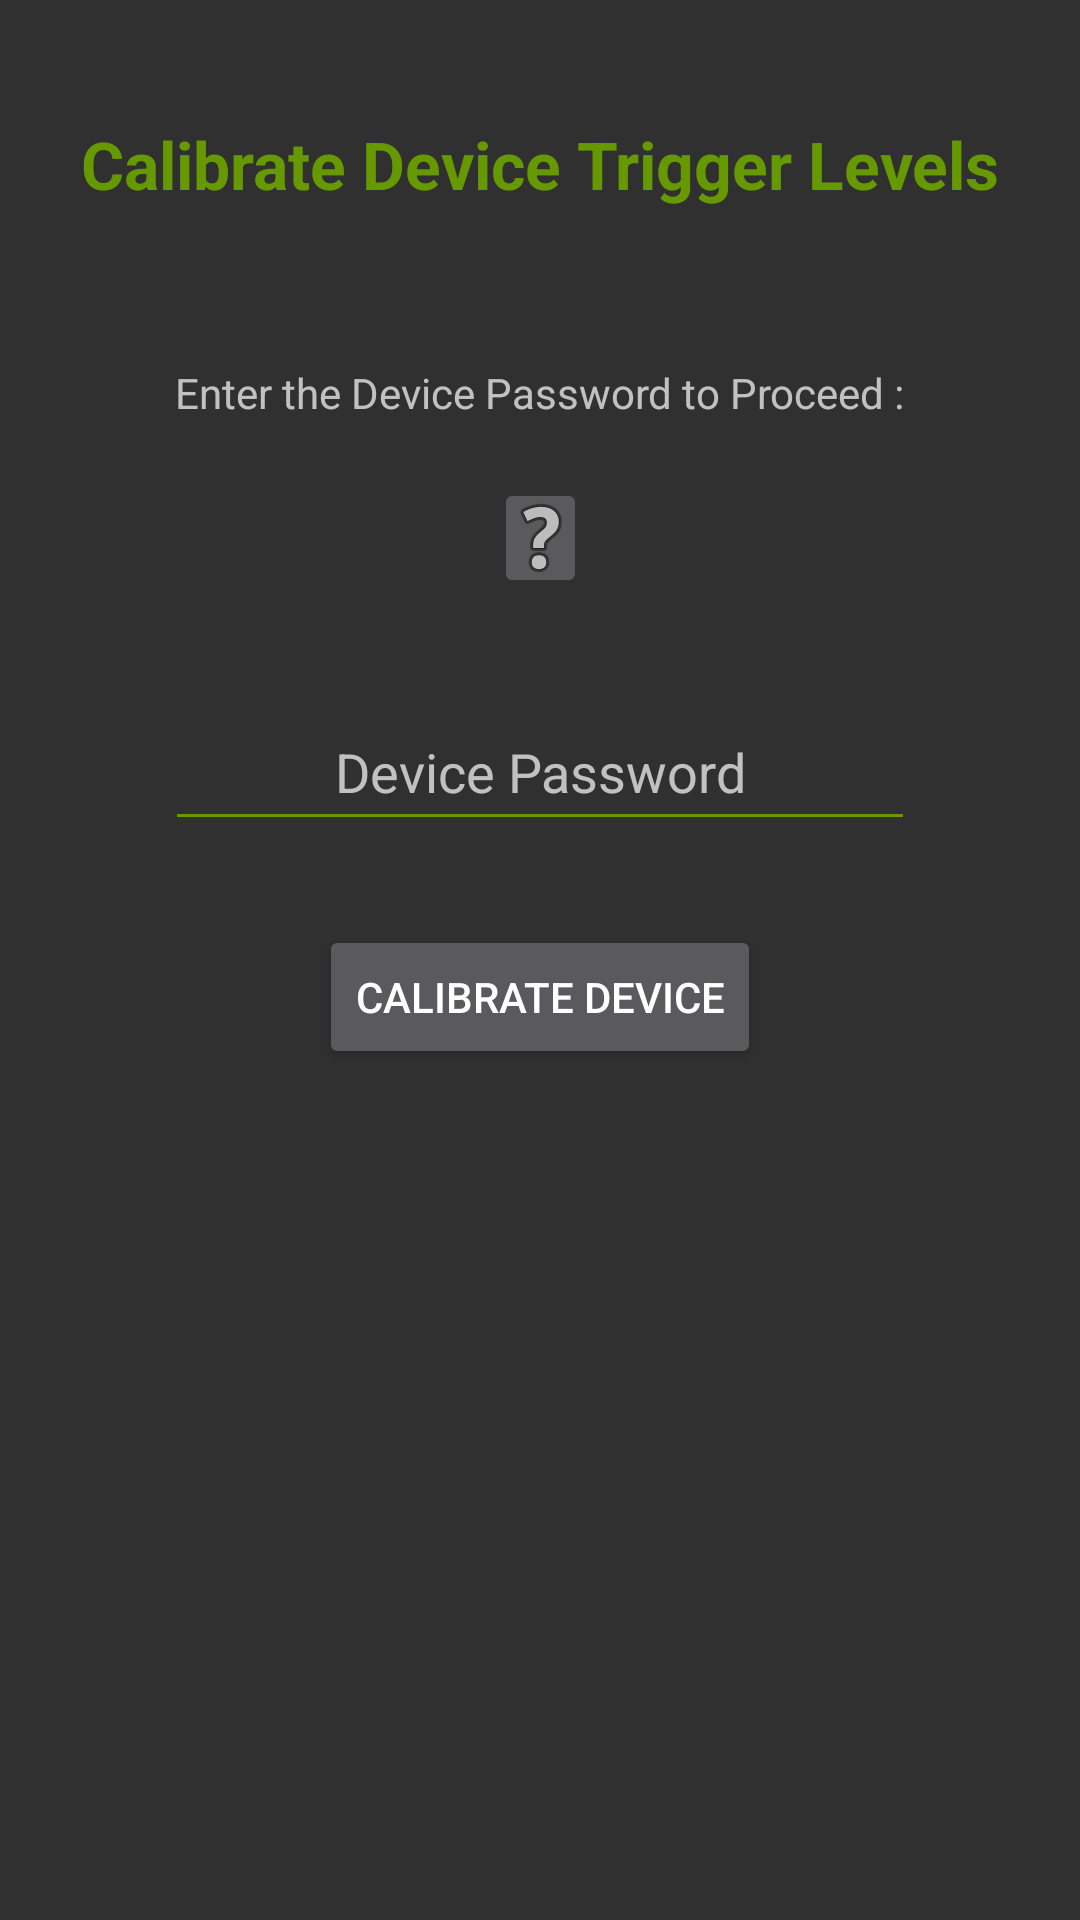

Icon bounding boxes for this 1080px×1920px phone screenshot, format {"left": x1, "top": y1, "right": x2, "bottom": y2}:
help: {"left": 506, "top": 496, "right": 575, "bottom": 580}
